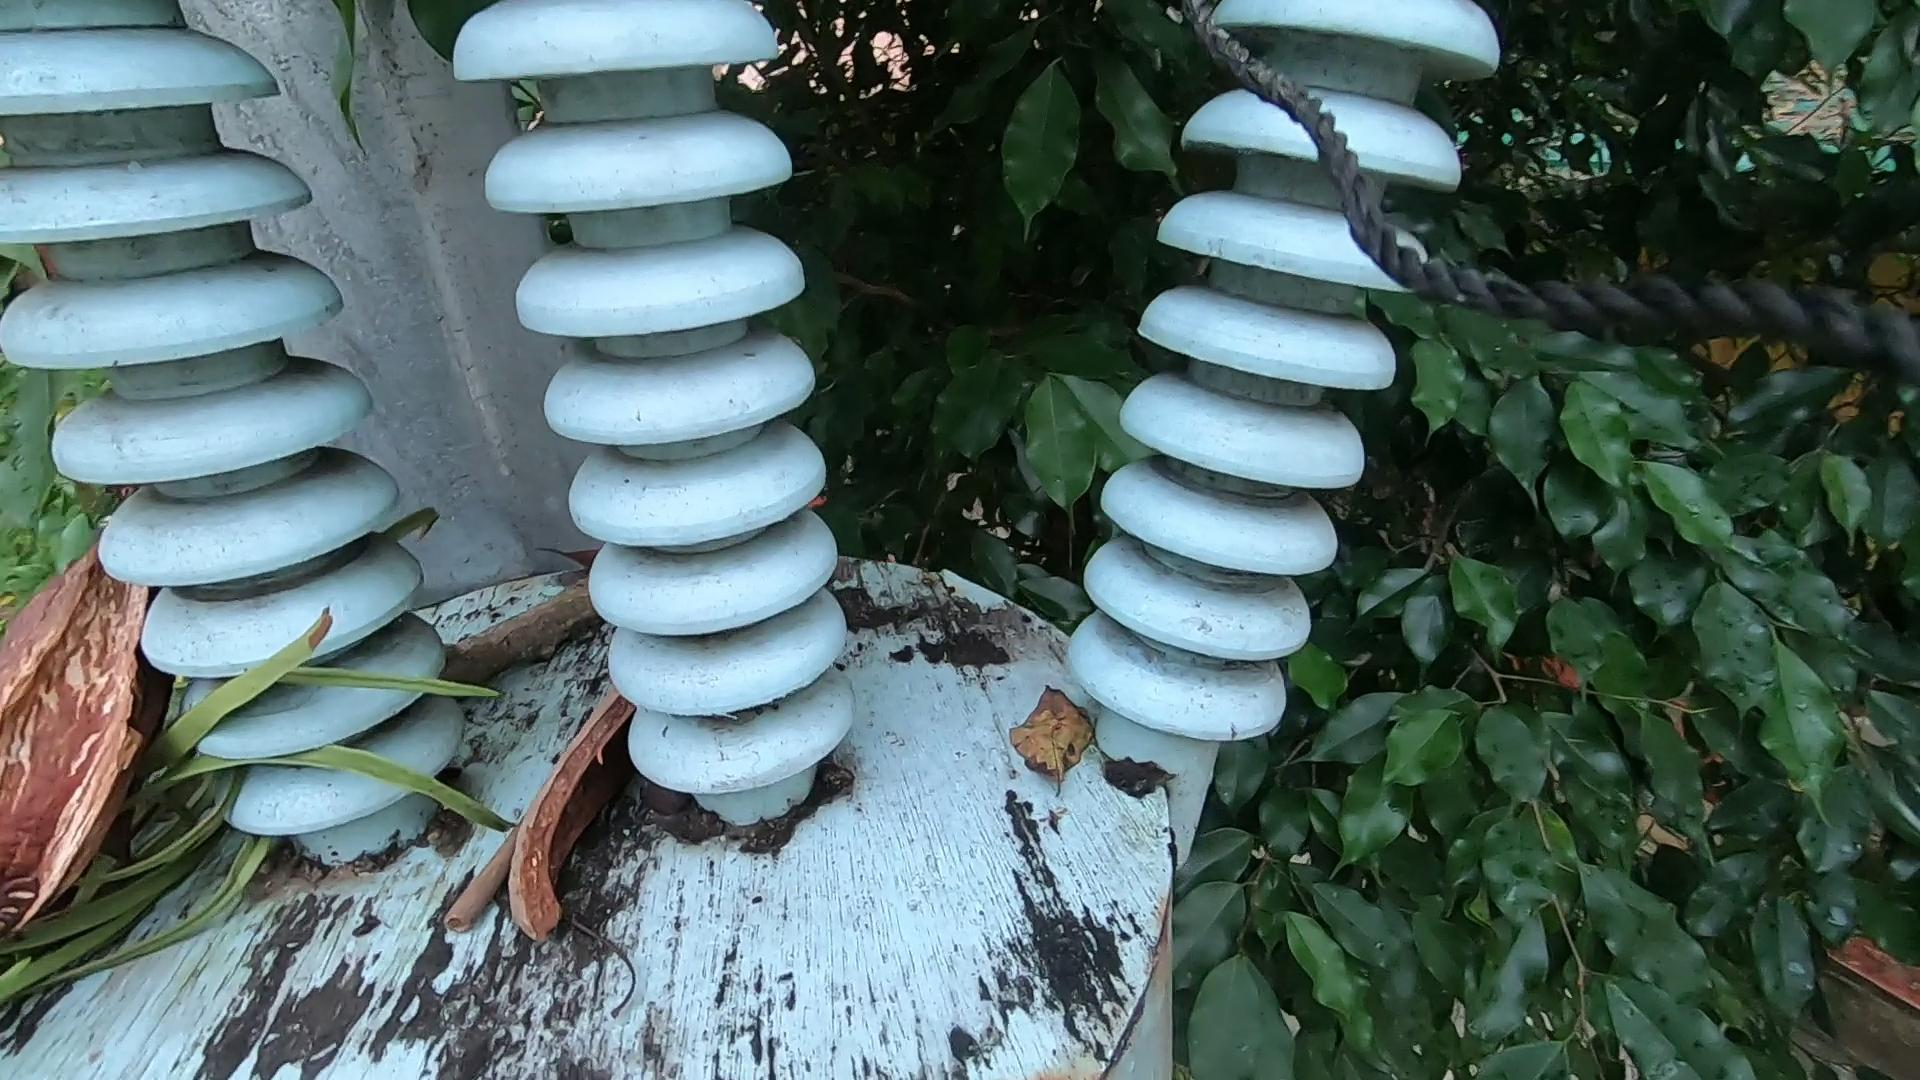branch with leaves: (1, 538, 574, 1059)
leaf: (1000, 649, 1158, 874)
mahogany fruit: (1, 543, 214, 996), (512, 647, 709, 1048)
tree branch: (376, 684, 810, 976)
